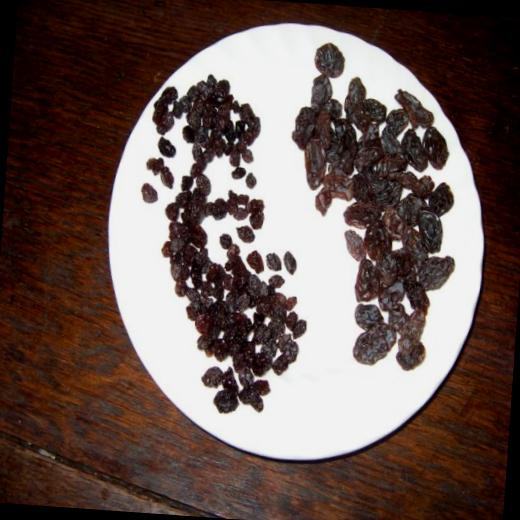Orange: (128, 69, 324, 420), (277, 39, 471, 374)
